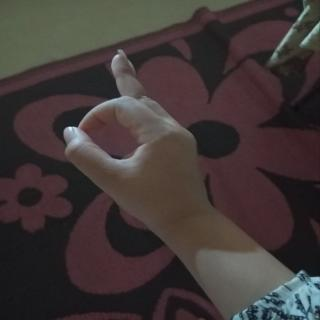Space: (58, 42, 208, 234)
